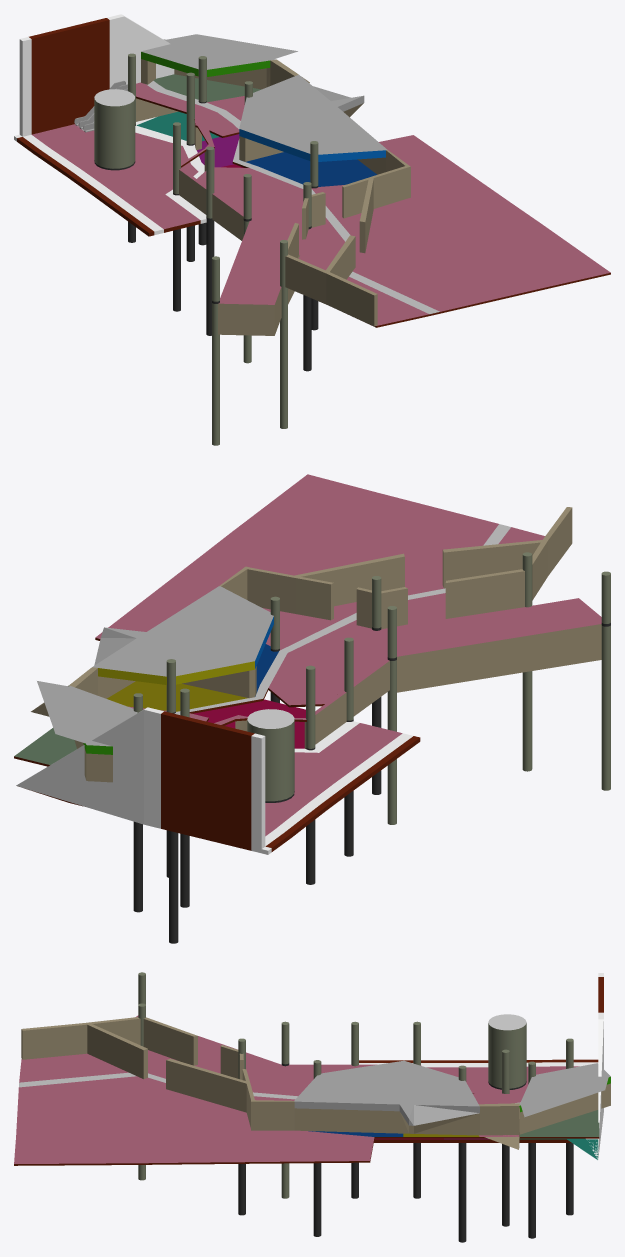
3 views of the same model, one above another, from view 1: azimuth 30°, elevation 25°; view 2: azimuth 150°, elevation 25°; view 3: azimuth 270°, elevation 25° (orthographic). The views are drawn at different scales.
Visible parts, largest first — view 1: Shopping_Mall_GEO_Lightfix:Floor2, Shopping_Mall_GEO_Lightfix:Floor1, Shopping_Mall_GEO_Lightfix:Store2, Shopping_Mall_GEO_Lightfix:Wall2, Shopping_Mall_GEO_Lightfix:Floor, Shopping_Mall_GEO_Lightfix:Store1, Shopping_Mall_GEO_Lightfix:Pillar_big, Shopping_Mall_GEO_Lightfix:Wall4, Shopping_Mall_GEO_Lightfix:Pillar_12, Shopping_Mall_GEO_Lightfix:Pillar_10, Shopping_Mall_GEO_Lightfix:Pillar_6, Shopping_Mall_GEO_Lightfix:Pillar_5 (+5 smaller); view 2: Shopping_Mall_GEO_Lightfix:Floor2, Shopping_Mall_GEO_Lightfix:Floor1, Shopping_Mall_GEO_Lightfix:Wall2, Shopping_Mall_GEO_Lightfix:Floor, Shopping_Mall_GEO_Lightfix:Store2, Shopping_Mall_GEO_Lightfix:Store1, Shopping_Mall_GEO_Lightfix:Pillar_big, Shopping_Mall_GEO_Lightfix:Wall4, Shopping_Mall_GEO_Lightfix:Pillar_12, Shopping_Mall_GEO_Lightfix:Pillar_7, Shopping_Mall_GEO_Lightfix:Pillar_10, Shopping_Mall_GEO_Lightfix:Pillar_5 (+7 smaller); view 3: Shopping_Mall_GEO_Lightfix:Floor2, Shopping_Mall_GEO_Lightfix:Wall2, Shopping_Mall_GEO_Lightfix:Store2, Shopping_Mall_GEO_Lightfix:Store1, Shopping_Mall_GEO_Lightfix:Floor1, Shopping_Mall_GEO_Lightfix:Pillar_big, Shopping_Mall_GEO_Lightfix:Wall, Shopping_Mall_GEO_Lightfix:Floor, Shopping_Mall_GEO_Lightfix:Pillar_4, Shopping_Mall_GEO_Lightfix:Pillar_2, Shopping_Mall_GEO_Lightfix:Pillar_3, Shopping_Mall_GEO_Lightfix:Pillar_1 (+5 smaller).
Boxes of the visible parts, x1,y1,x2,y2 form: Shopping_Mall_GEO_Lightfix:Floor2: (136, 74, 610, 327); Shopping_Mall_GEO_Lightfix:Floor1: (14, 14, 243, 236); Shopping_Mall_GEO_Lightfix:Store2: (239, 74, 387, 174); Shopping_Mall_GEO_Lightfix:Wall2: (285, 150, 410, 326); Shopping_Mall_GEO_Lightfix:Floor: (218, 220, 299, 335); Shopping_Mall_GEO_Lightfix:Store1: (141, 34, 297, 89); Shopping_Mall_GEO_Lightfix:Pillar_big: (94, 89, 135, 170); Shopping_Mall_GEO_Lightfix:Wall4: (179, 168, 252, 240); Shopping_Mall_GEO_Lightfix:Pillar_12: (212, 256, 219, 445); Shopping_Mall_GEO_Lightfix:Pillar_10: (280, 239, 287, 428); Shopping_Mall_GEO_Lightfix:Pillar_6: (206, 146, 214, 335); Shopping_Mall_GEO_Lightfix:Pillar_5: (173, 122, 180, 311); Shopping_Mall_GEO_Lightfix:Floor2: (14, 474, 544, 766); Shopping_Mall_GEO_Lightfix:Floor1: (16, 699, 420, 854); Shopping_Mall_GEO_Lightfix:Wall2: (219, 507, 572, 629); Shopping_Mall_GEO_Lightfix:Floor: (397, 598, 601, 692); Shopping_Mall_GEO_Lightfix:Store2: (92, 586, 273, 698); Shopping_Mall_GEO_Lightfix:Store1: (37, 681, 137, 782); Shopping_Mall_GEO_Lightfix:Pillar_big: (247, 709, 294, 802); Shopping_Mall_GEO_Lightfix:Wall4: (304, 658, 389, 748); Shopping_Mall_GEO_Lightfix:Pillar_12: (601, 571, 610, 790); Shopping_Mall_GEO_Lightfix:Pillar_7: (387, 606, 396, 824); Shopping_Mall_GEO_Lightfix:Pillar_10: (522, 552, 532, 771); Shopping_Mall_GEO_Lightfix:Pillar_5: (306, 665, 315, 884); Shopping_Mall_GEO_Lightfix:Floor2: (14, 1050, 599, 1165); Shopping_Mall_GEO_Lightfix:Wall2: (21, 1017, 294, 1130); Shopping_Mall_GEO_Lightfix:Store2: (294, 1060, 479, 1135); Shopping_Mall_GEO_Lightfix:Store1: (519, 1063, 610, 1134); Shopping_Mall_GEO_Lightfix:Floor1: (359, 973, 603, 1159); Shopping_Mall_GEO_Lightfix:Pillar_big: (488, 1014, 526, 1089); Shopping_Mall_GEO_Lightfix:Wall: (479, 1103, 519, 1149); Shopping_Mall_GEO_Lightfix:Floor: (135, 1015, 281, 1066); Shopping_Mall_GEO_Lightfix:Pillar_4: (458, 1065, 466, 1242); Shopping_Mall_GEO_Lightfix:Pillar_2: (502, 1049, 509, 1226); Shopping_Mall_GEO_Lightfix:Pillar_3: (528, 1061, 535, 1238); Shopping_Mall_GEO_Lightfix:Pillar_1: (566, 1038, 573, 1215).
Bounding box in the file's own units: 4646 × 2849 × 7785.
